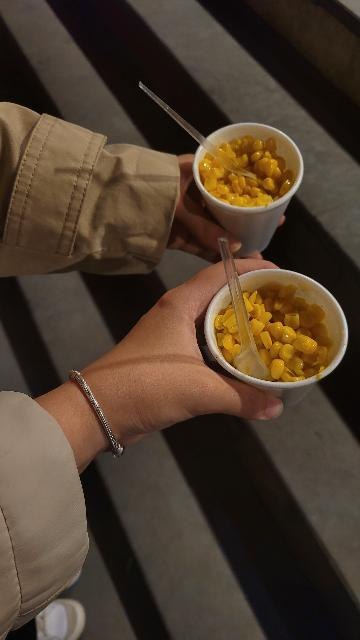Metal: (57, 360, 130, 467)
Organik: (220, 289, 320, 374), (209, 133, 286, 204)
Plastik: (134, 79, 256, 184), (210, 237, 267, 377)
